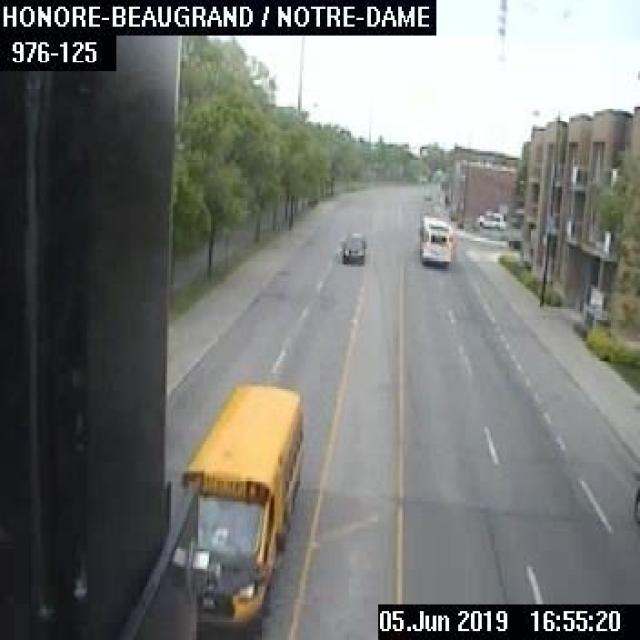bus: (180, 382, 304, 638), (417, 215, 451, 265)
vehicle: (340, 230, 365, 264), (477, 210, 504, 230)
